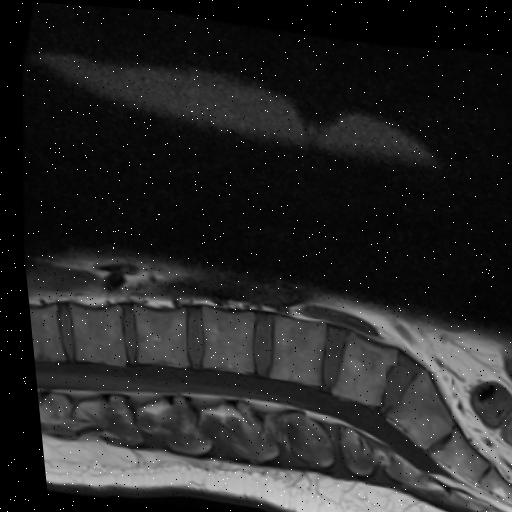L1: (64, 305, 119, 364)
L2: (128, 305, 180, 366)
L3: (196, 305, 248, 369)
L4: (262, 312, 320, 381)
L5: (325, 327, 390, 401)
S1: (379, 364, 444, 442)
